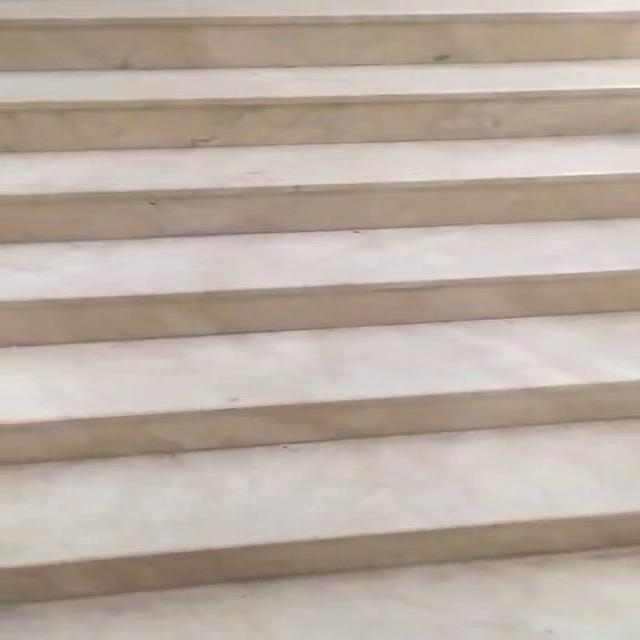stair: (15, 7, 640, 610)
